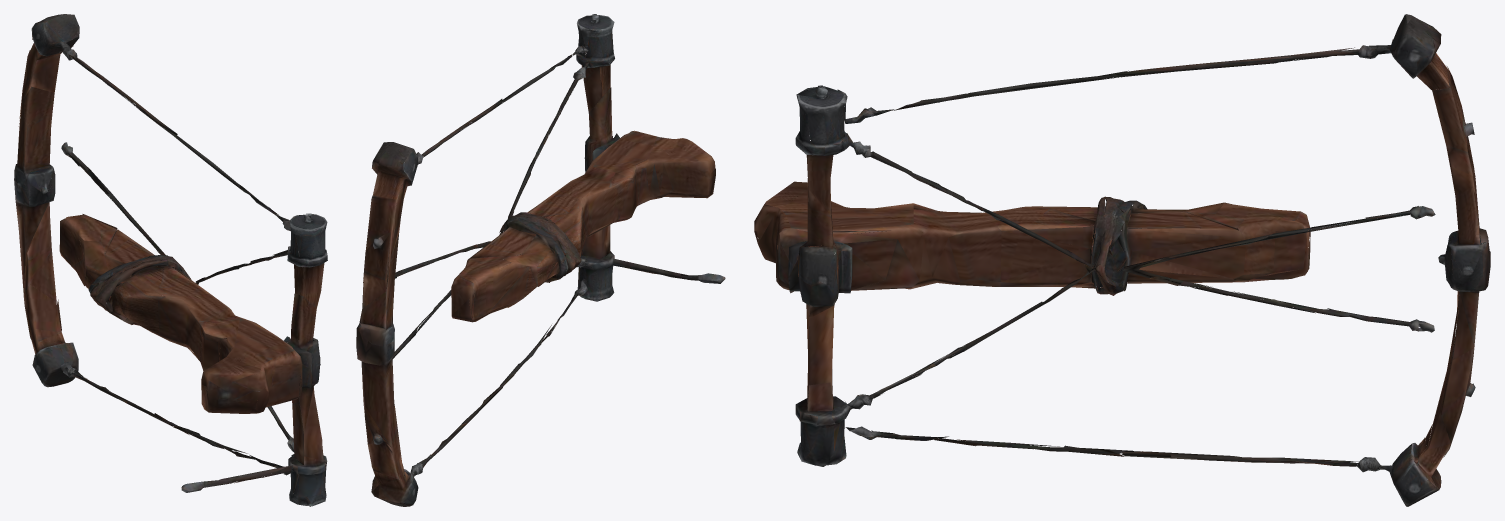
File: stalker_weapon_2.glb
The picture shows the model from 3 angles, left to right: view 1: azimuth 30°, elevation 25°; view 2: azimuth 150°, elevation 25°; view 3: azimuth 270°, elevation 25°; orthographic projection. The views are drawn at different scales.
Parts seen in each view (by area): view 1: stalker_weapon_2; view 2: stalker_weapon_2; view 3: stalker_weapon_2.
Part boxes in pixels (<box>): stalker_weapon_2: <box>14,14,327,506</box>; stalker_weapon_2: <box>356,14,725,506</box>; stalker_weapon_2: <box>754,14,1490,506</box>.
Bounding box in the file's own units: 0.239 × 0.5762 × 0.8.
Materials: 1 (1 with a texture image).
